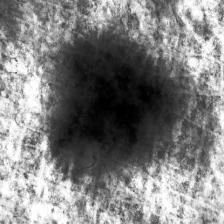Benign Marking or Mole: (56, 41, 175, 161)
